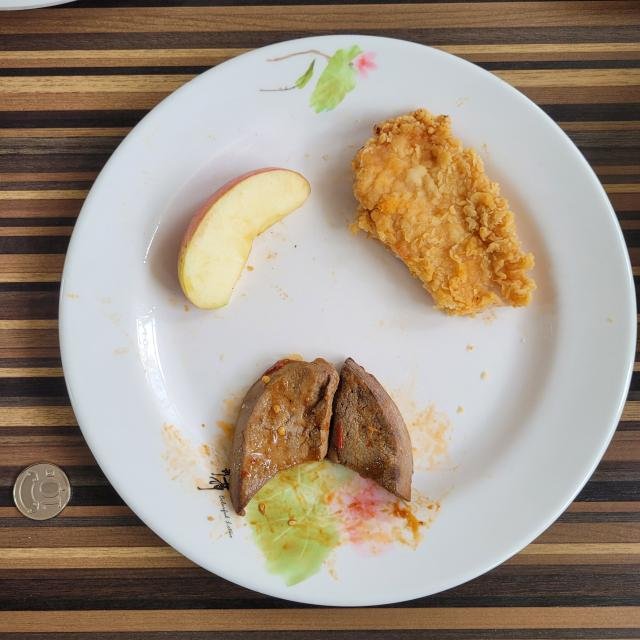apple -sliced-: (178, 168, 311, 309)
coin: (12, 462, 70, 520)
fried chicken cutlet: (350, 109, 536, 316)
pig liver: (229, 358, 414, 516)
